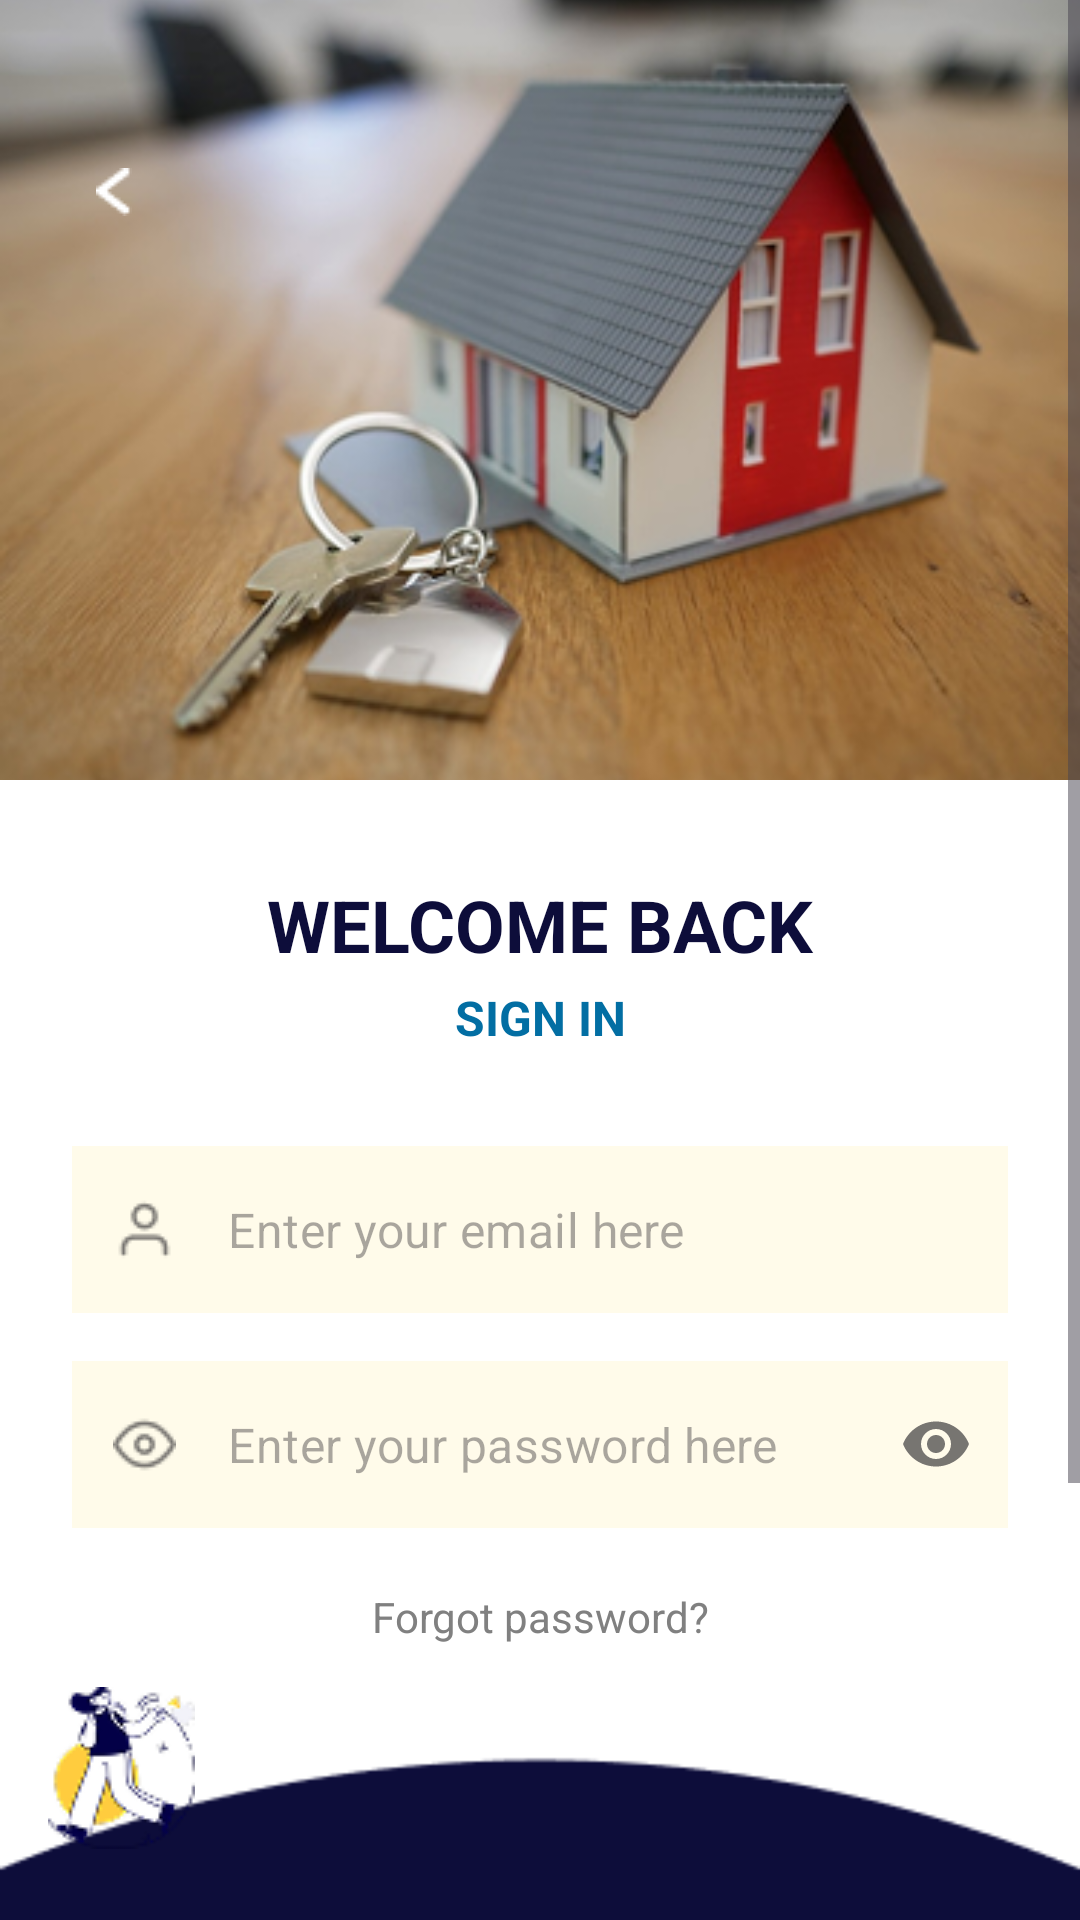

Icon bounding boxes for this 1080*1920 phone screenshot, format (x1, y1, x2, y2):
Back button: (72, 144, 156, 216)
Character illustration for login screen: (48, 1687, 195, 1849)
